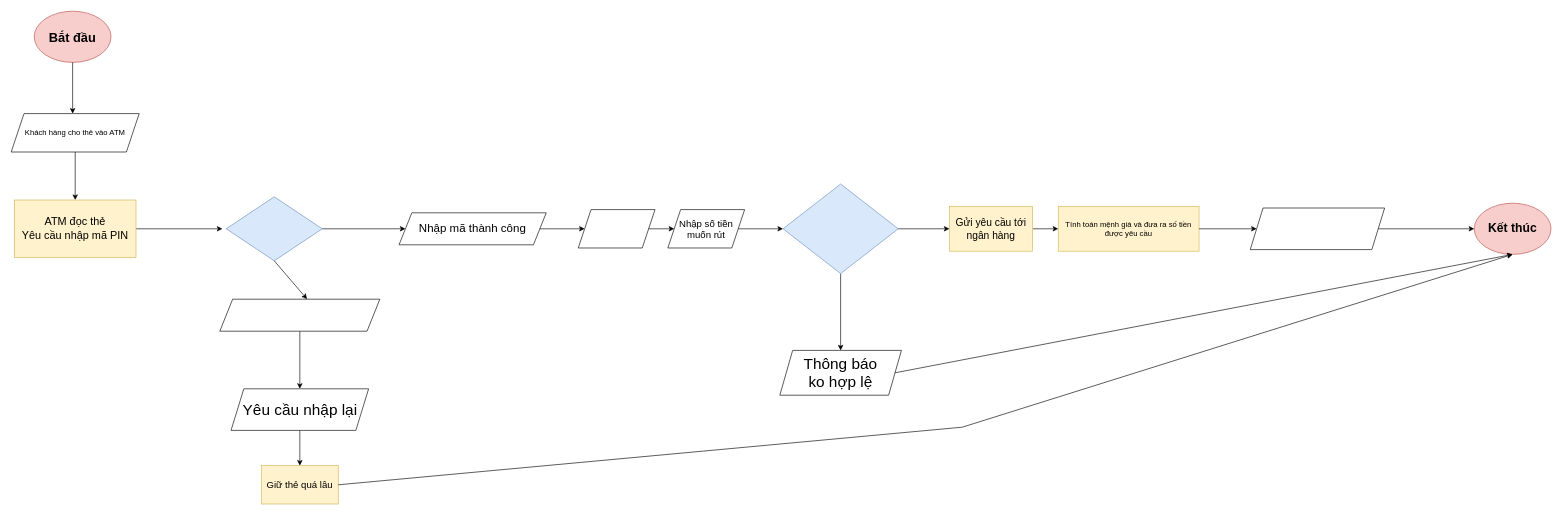
The diagram is 1562 pixels wide and 515 high, and some of its shapes have lost their labels. Each missing label, with the box of its shape:
Chọn muốn rút tiền: (578, 209, 655, 248)
Mã PIN hợp lệ?: (226, 196, 322, 261)
Số tiền hợp lệ, Số dư tài khoản đủ?: (782, 183, 898, 274)
Thông báo mã sai: (219, 299, 380, 331)
Trả tiền mặt, biên lai và thẻ lại cho khách hàng: (1250, 207, 1385, 250)
